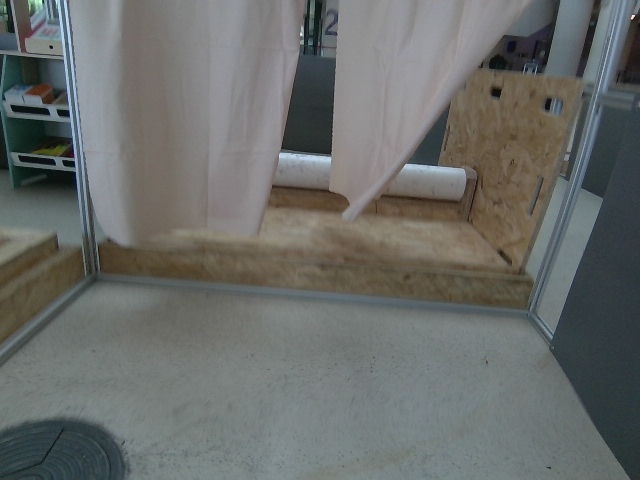curtain: (51, 0, 544, 264)
